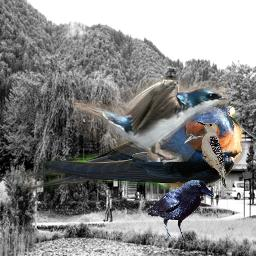Crow: (148, 180, 213, 243)
Swallow: (21, 102, 245, 192), (70, 77, 228, 162)
Woodpecker: (196, 118, 230, 192)
